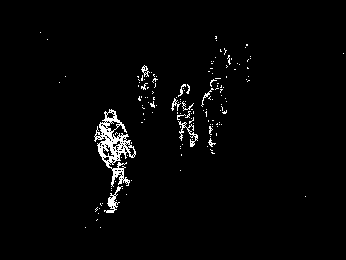person: (95, 105, 137, 215), (201, 77, 228, 158), (171, 80, 199, 153), (136, 65, 159, 123)
